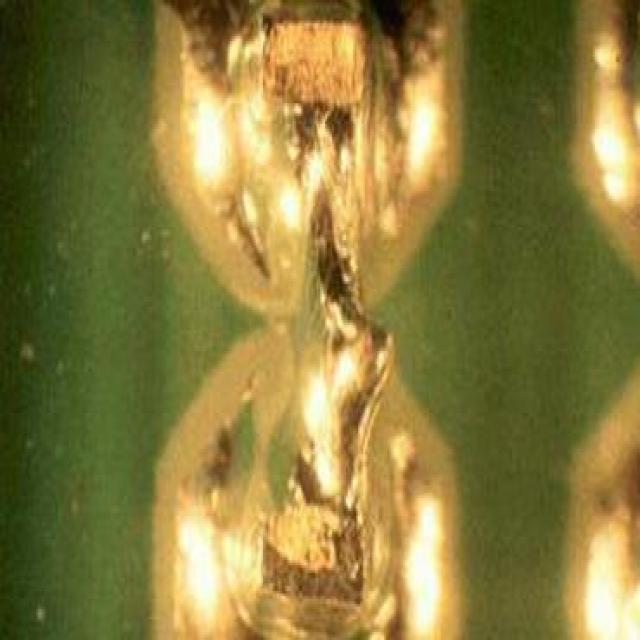Short_circuit: (163, 8, 429, 635)
